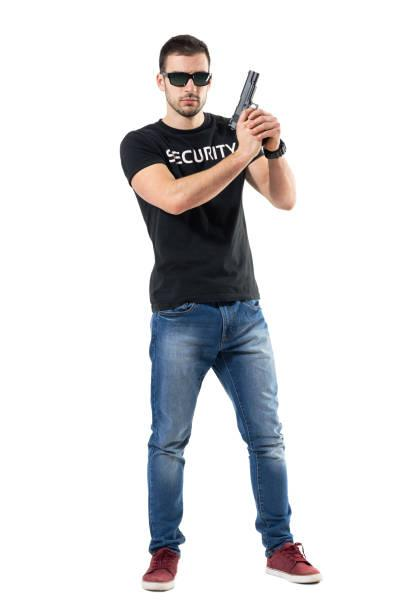weapon: (225, 65, 285, 137)
